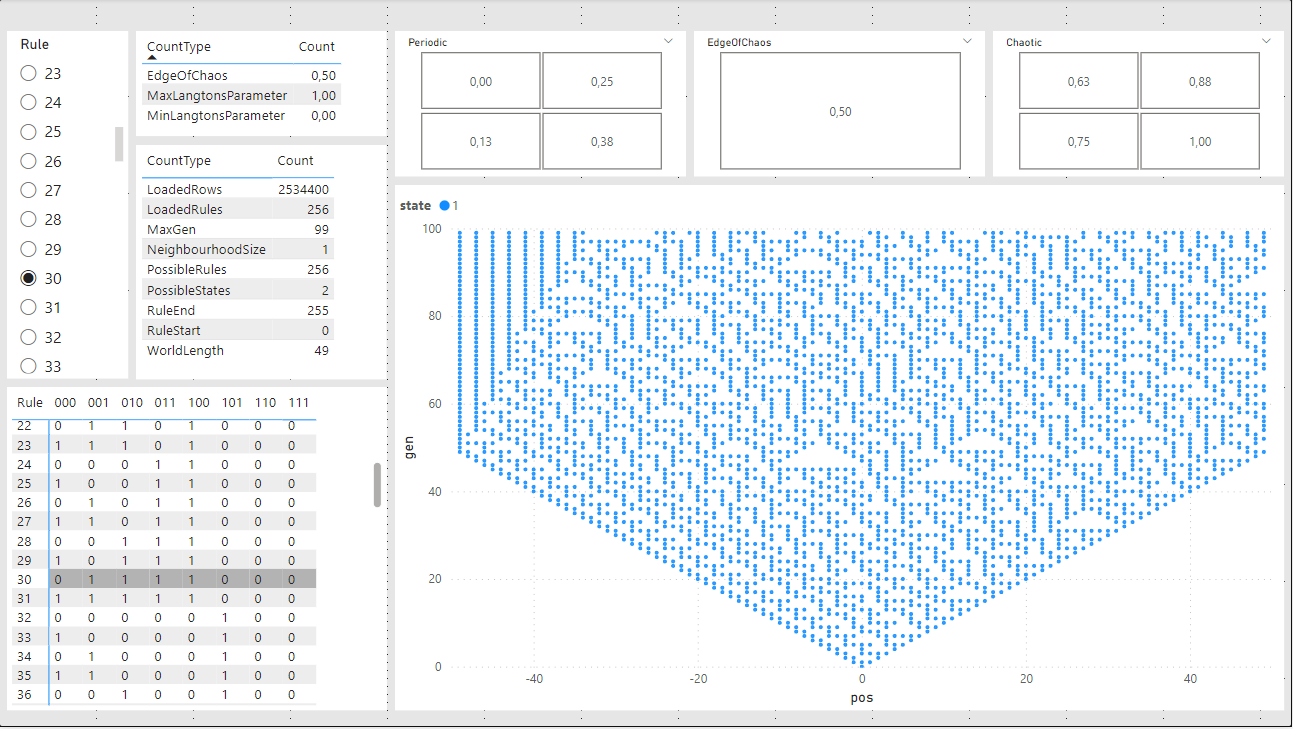

What the dashboard file says about the page in this screenshot:
{"tool":"powerbi","page":{"name":"Result","canvas":[1280,720],"ordinal":0},"visuals":[{"type":"scatterChart","fields":{"X":["Sum(NewestWorld.pos)"],"Y":["NewestWorld.gen"],"Series":["NewestWorld.state"]},"box":[392,184,880,520],"z":0},{"type":"slicer","fields":{"Values":["NewestWorld.Rule"]},"box":[8,32,120,344],"z":1000},{"type":"pivotTable","fields":{"Columns":["Rules.Pattern"],"Values":["Min(Rules.NewState)"],"Rows":["Rules.Rule"]},"box":[8,384,376,320],"z":2000},{"type":"slicer","fields":{"Values":["Dic Rules.LangtonsParameter"]},"box":[392,32,288,144],"z":3000},{"type":"slicer","fields":{"Values":["Dic Rules.LangtonsParameter"]},"box":[688,32,288,144],"z":4000},{"type":"slicer","fields":{"Values":["Dic Rules.LangtonsParameter"]},"box":[984,32,288,144],"z":5000},{"type":"tableEx","fields":{"Values":["Stats.CountType","Stats.Count"]},"box":[136,32,248,104],"z":6000},{"type":"tableEx","fields":{"Values":["Stats.CountType","Stats.CountWhole"]},"box":[136,144,248,232],"z":7000}]}

Visuals, with their boxes on the page's 1280x720 design canvas (x1, y1, x2, y2). These are canvas units, not pixel positions in the 1293x729 screenshot, which may show the page scaled, cropped or inside an application window:
scatterChart - Sum(NewestWorld.pos) x NewestWorld.gen: (x1=392, y1=184, x2=1272, y2=704)
slicer - NewestWorld.Rule: (x1=8, y1=32, x2=128, y2=376)
pivotTable - Rules.Pattern x Min(Rules.NewState): (x1=8, y1=384, x2=384, y2=704)
slicer - Dic Rules.LangtonsParameter: (x1=392, y1=32, x2=680, y2=176)
slicer - Dic Rules.LangtonsParameter: (x1=688, y1=32, x2=976, y2=176)
slicer - Dic Rules.LangtonsParameter: (x1=984, y1=32, x2=1272, y2=176)
tableEx - Stats.CountType x Stats.Count: (x1=136, y1=32, x2=384, y2=136)
tableEx - Stats.CountType x Stats.CountWhole: (x1=136, y1=144, x2=384, y2=376)
